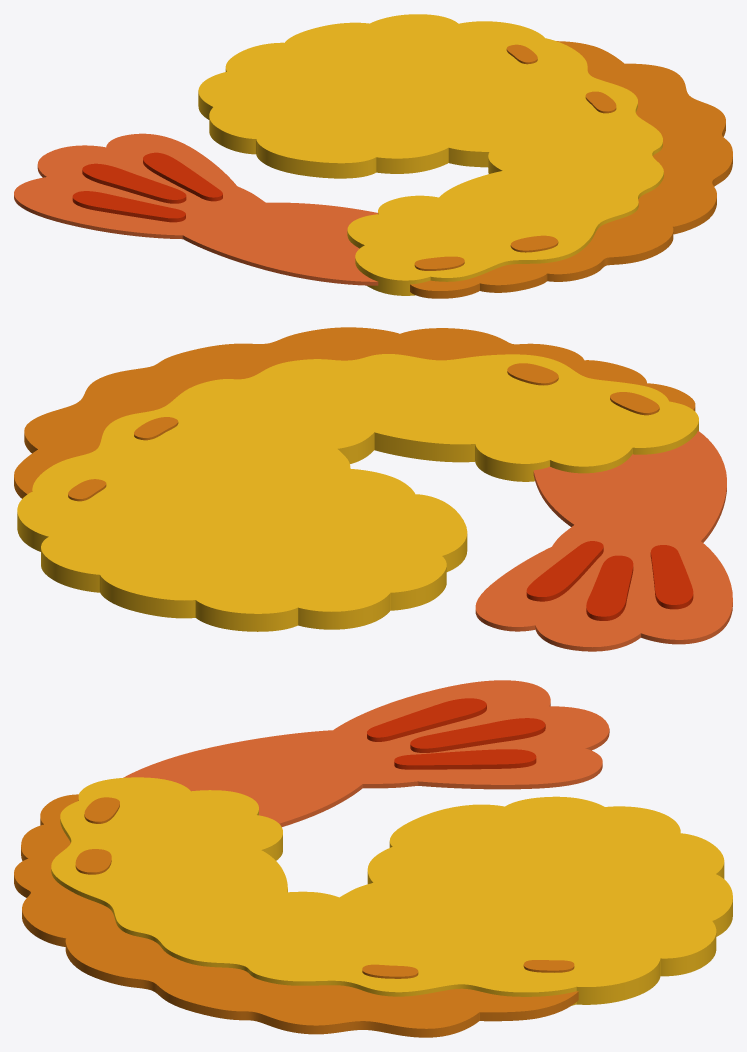
The model's file is emoji_u1f364.glb.
3 renders of one model, top to bottom at view 1: azimuth 30°, elevation 25°; view 2: azimuth 150°, elevation 25°; view 3: azimuth 270°, elevation 25°, orthographic. The views are drawn at different scales.
Parts seen in each view (by area): view 1: emoji_u1f364; view 2: emoji_u1f364; view 3: emoji_u1f364.
Boxes of the visible parts, x1,y1,x2,y2 form: emoji_u1f364: (14, 14, 732, 298); emoji_u1f364: (14, 327, 732, 651); emoji_u1f364: (14, 680, 732, 1037).
Bounding box in the file's own units: 0.0339 × 0.001 × 0.0294.
